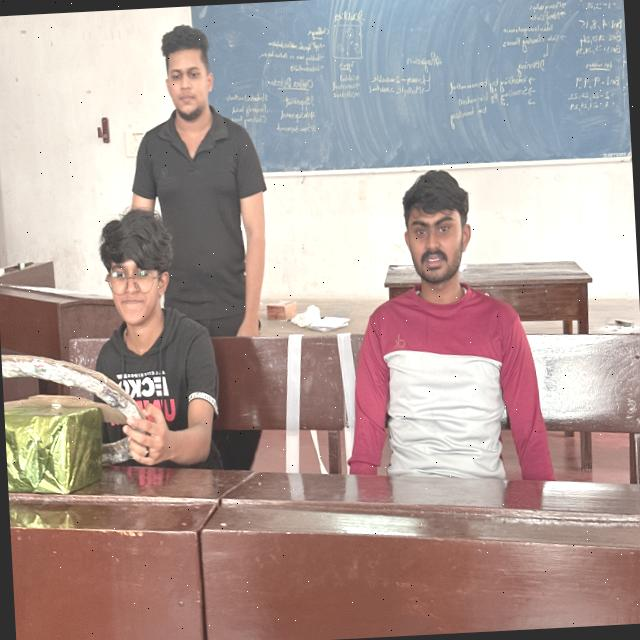Helmet: (332, 274, 528, 508), (130, 100, 272, 334), (66, 298, 223, 466)
